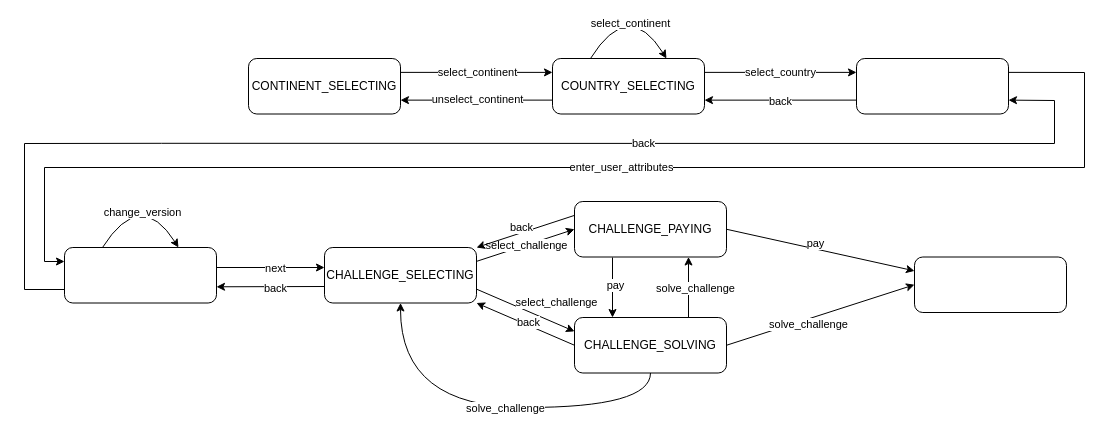
Image size: 1110x432. Some labels were removed from this diagram. Each missing label, with the centre of its shape:
"RECOVERY_FINISHED" goes at (x=990, y=284).
"SECRET_SELECTING" goes at (x=140, y=274).
"USER_ATTRIBUTES _COLLECTING" goes at (x=932, y=86).
